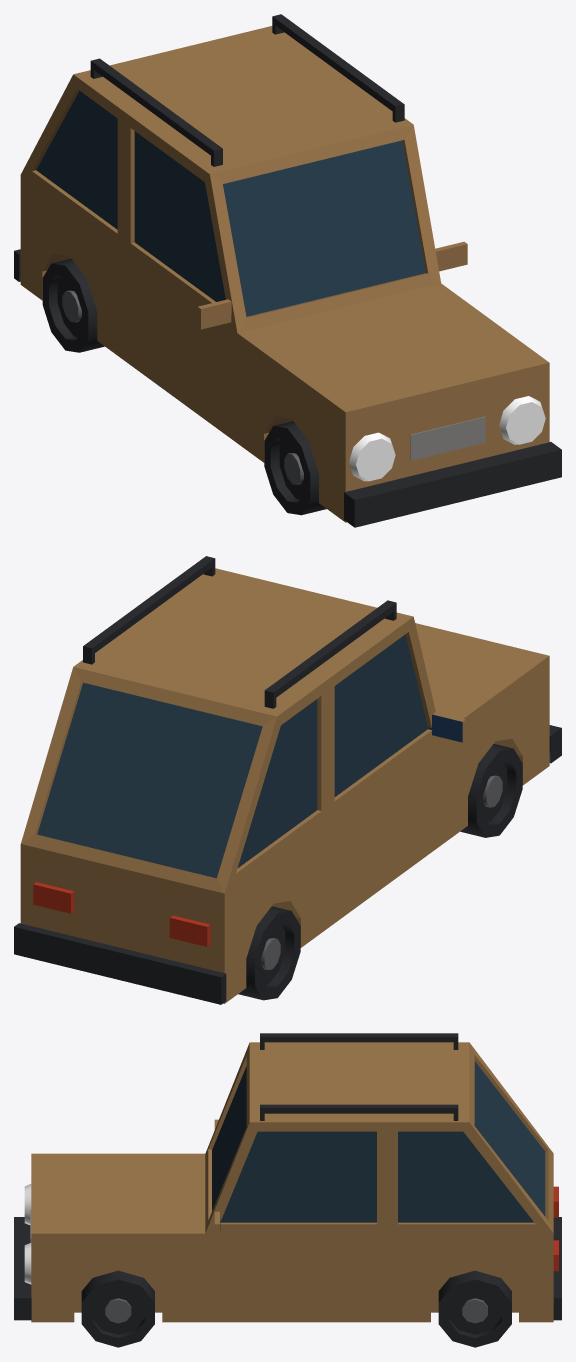
File: Car_8.fbx
3 renders of one model, top to bottom at view 1: azimuth 30°, elevation 25°; view 2: azimuth 150°, elevation 25°; view 3: azimuth 270°, elevation 25°, orthographic. The views are drawn at different scales.
Visible parts, largest first — view 1: Car_8; view 2: Car_8; view 3: Car_8.
Part boxes in pixels (bbox=[...]): Car_8: bbox=[14, 14, 561, 527]; Car_8: bbox=[14, 556, 561, 1004]; Car_8: bbox=[14, 1033, 561, 1347].
Bounding box in the file's own units: 199 × 210 × 440.
